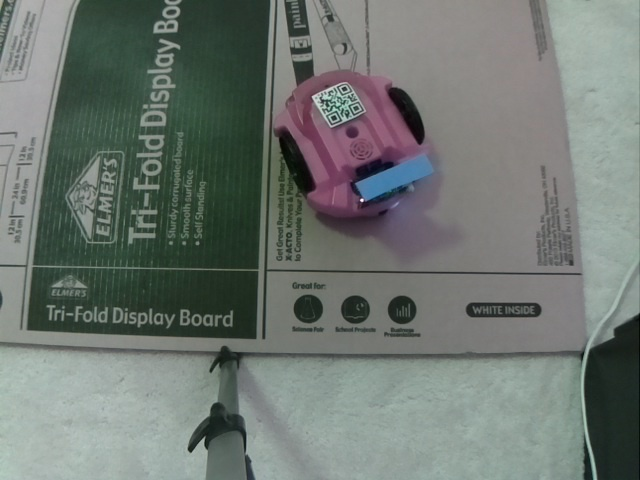chassis: (271, 67, 436, 225)
qr: (307, 82, 368, 126)
